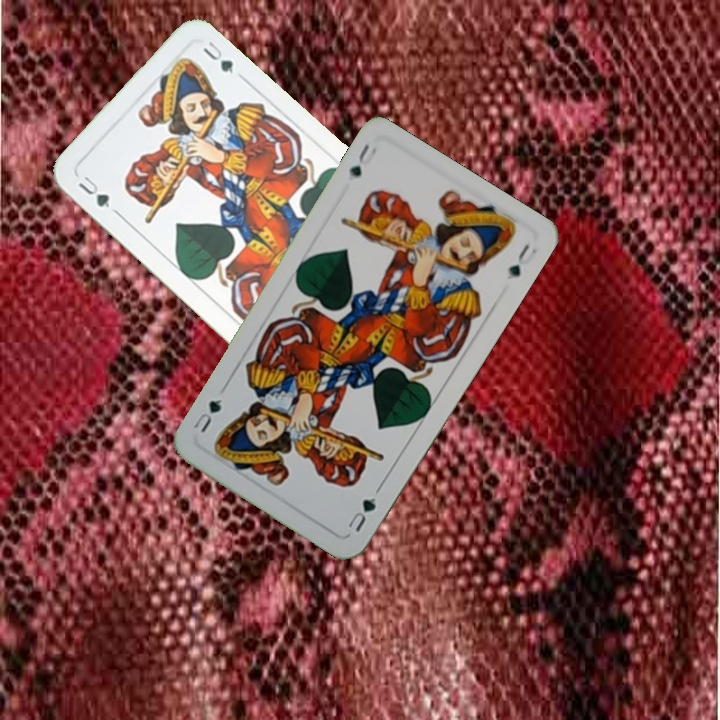GU: (74, 171, 114, 211), (344, 493, 379, 535), (345, 139, 380, 180)
